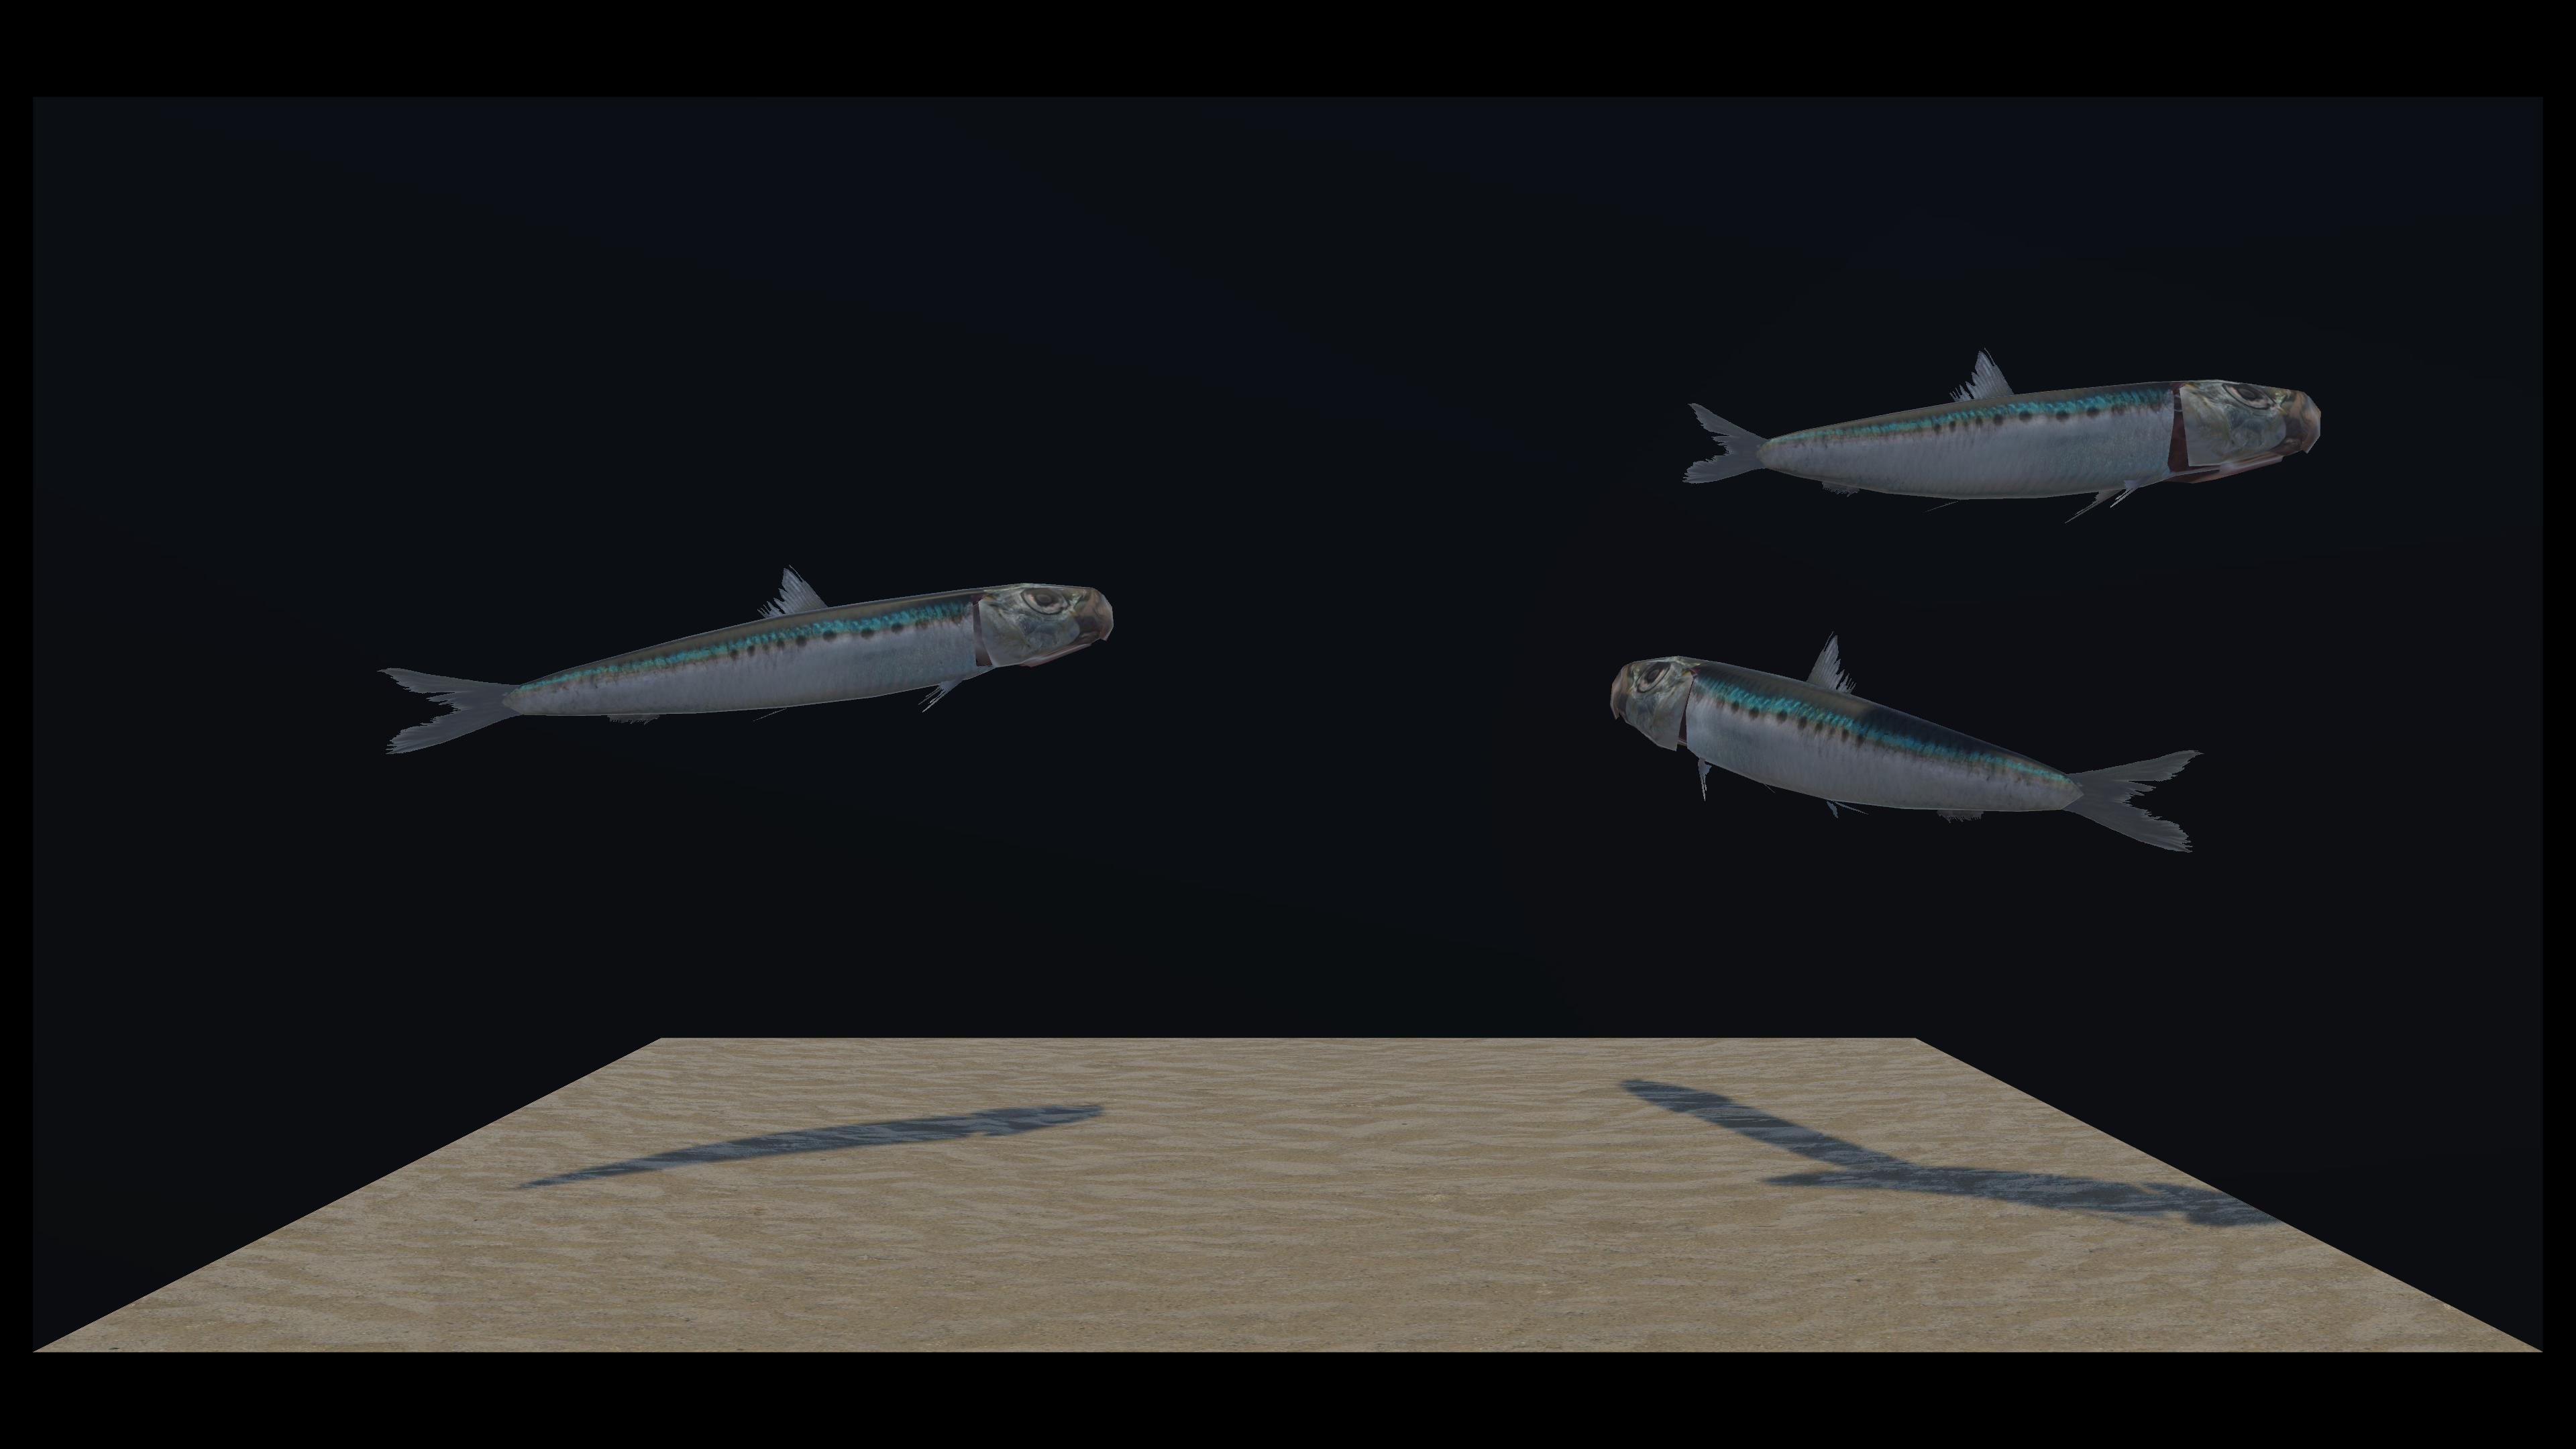Sardine_Front: (832, 543, 2189, 851), (906, 352, 2289, 534), (396, 402, 1090, 752)
